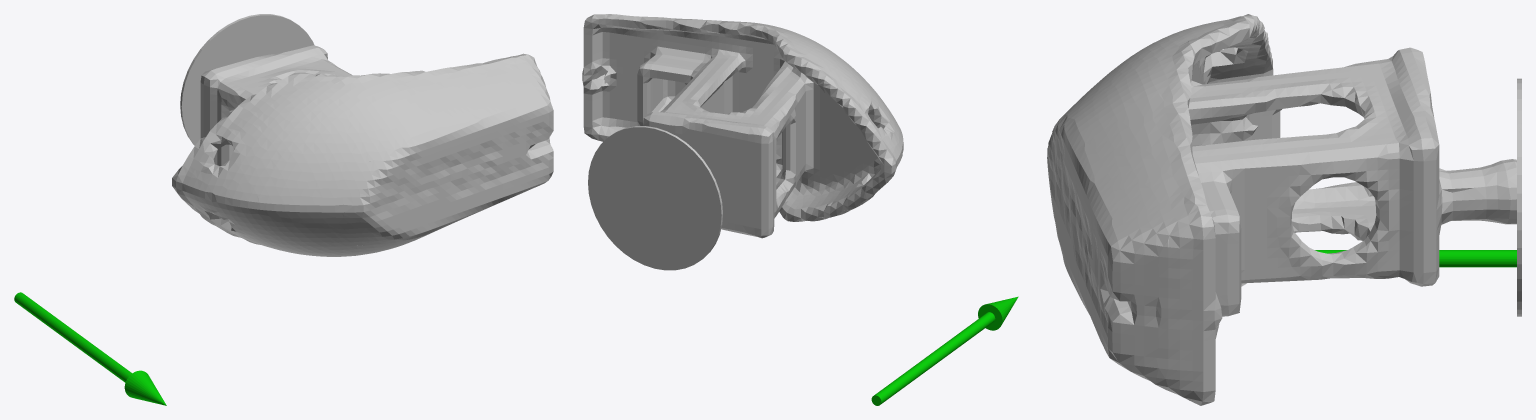
The model's file is out_death.glb.
3 views of the same model, side by side, from view 1: azimuth 30°, elevation 25°; view 2: azimuth 150°, elevation 25°; view 3: azimuth 270°, elevation 25° (orthographic). The views are drawn at different scales.
Parts seen in each view (by area): view 1: source_mesh, up_arrow; view 2: source_mesh, up_arrow; view 3: source_mesh, up_arrow.
Boxes of the visible parts, left/top/right/bottom form: source_mesh: left=172, top=14, right=553, bottom=256; up_arrow: left=14, top=292, right=166, bottom=405; source_mesh: left=582, top=14, right=903, bottom=270; up_arrow: left=871, top=296, right=1018, bottom=405; source_mesh: left=1047, top=14, right=1521, bottom=405; up_arrow: left=1315, top=250, right=1516, bottom=267.
Bounding box in the file's own units: 76.04 × 45.37 × 49.86.
